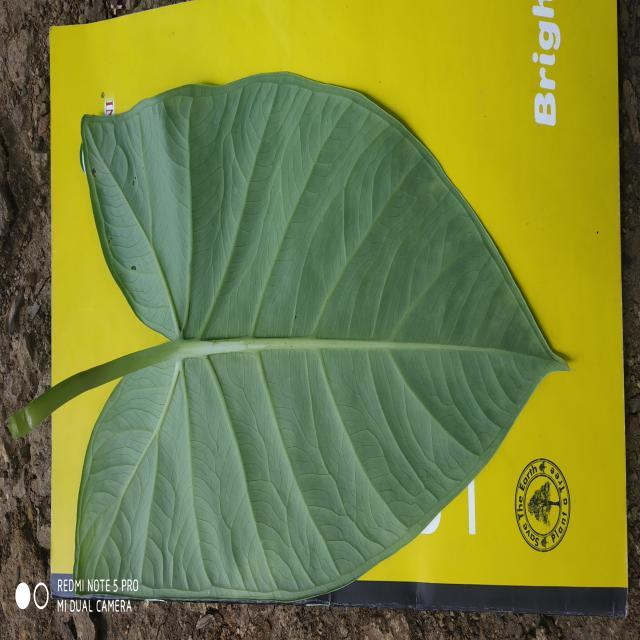leaf: (9, 69, 571, 603)
